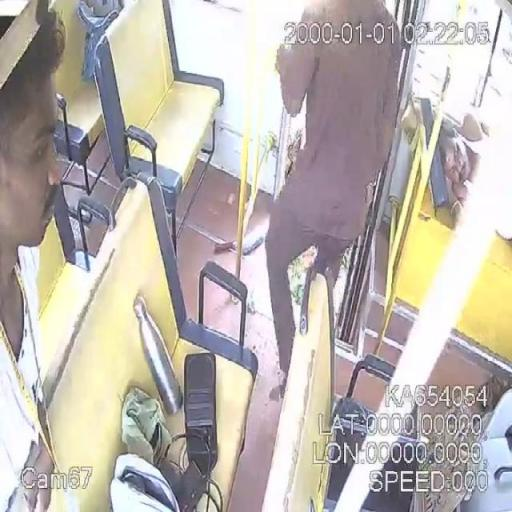persona: (263, 1, 406, 399), (0, 0, 70, 511)
